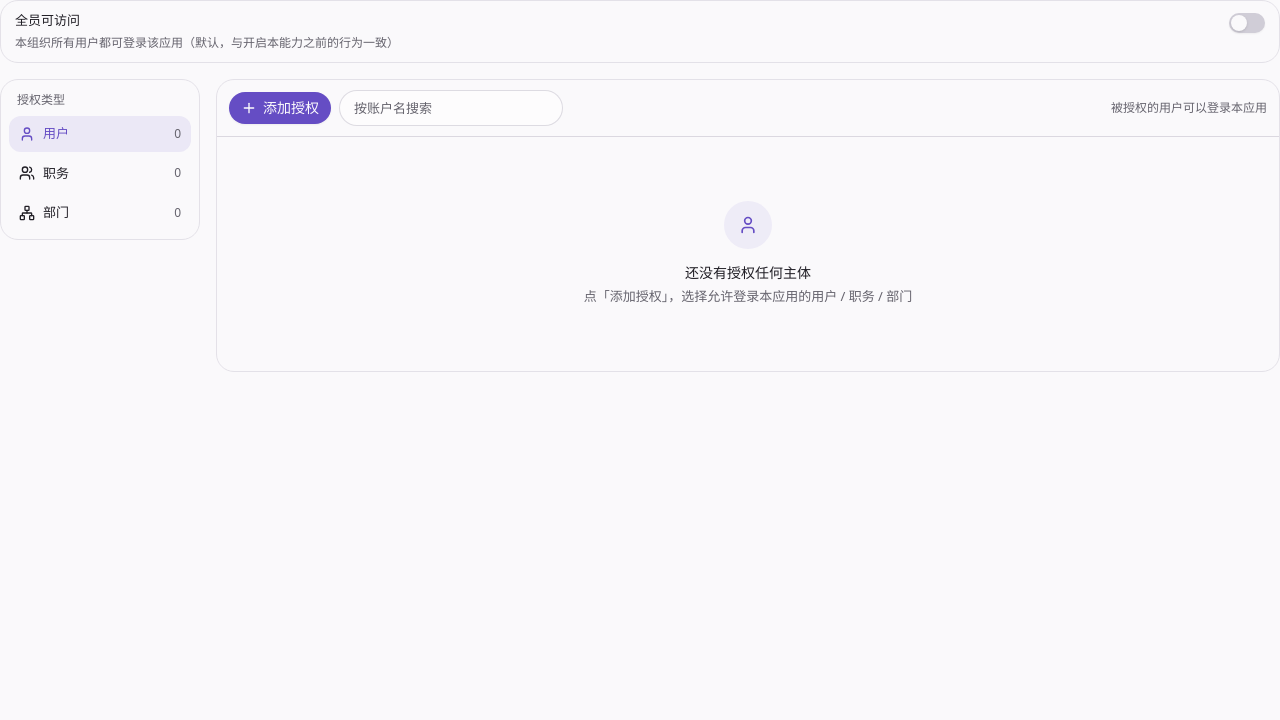
Test: ApplicationAccessEditor（授权类型 / 名单 左右布局） › 弹窗内可切换授权类型与全选；列表按关键词服务端搜索
Click the button "添加授权": coordinates (280, 108) [229,92,331,124]
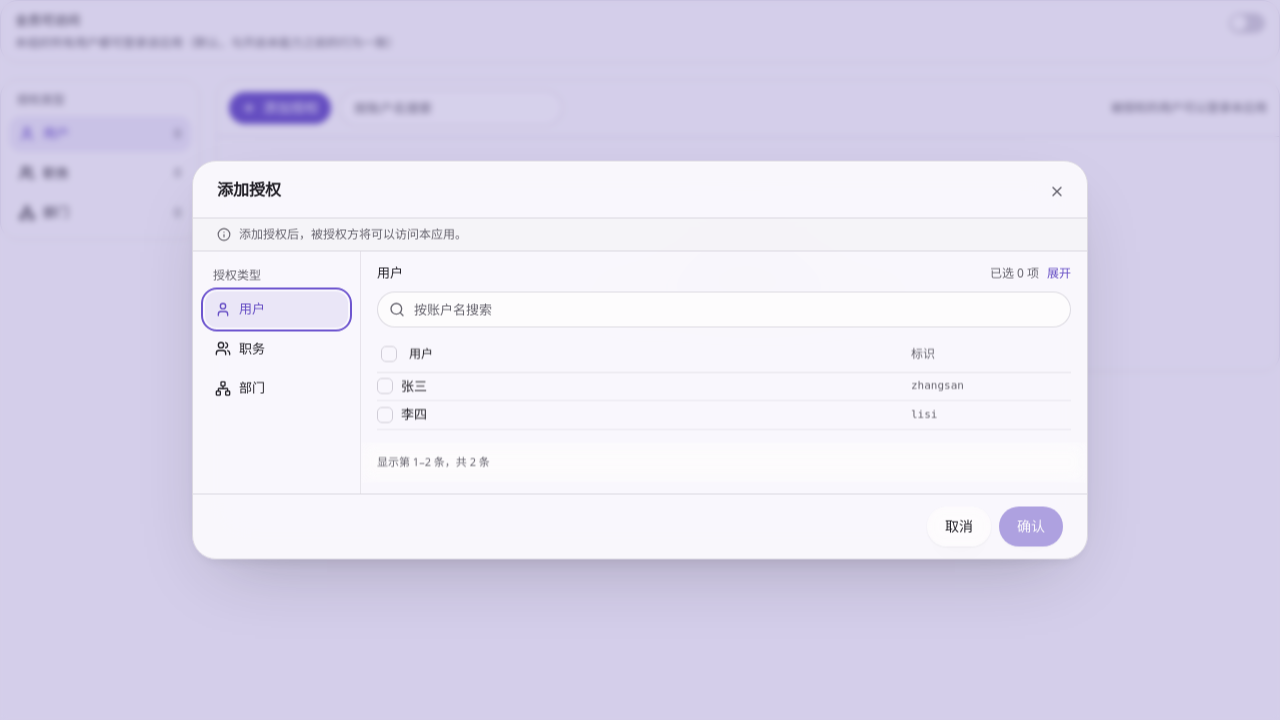
# 全选当前列出的候选
Click the checkbox named "全选当前列出的主体": coordinates (389, 353) [381,345,397,361]
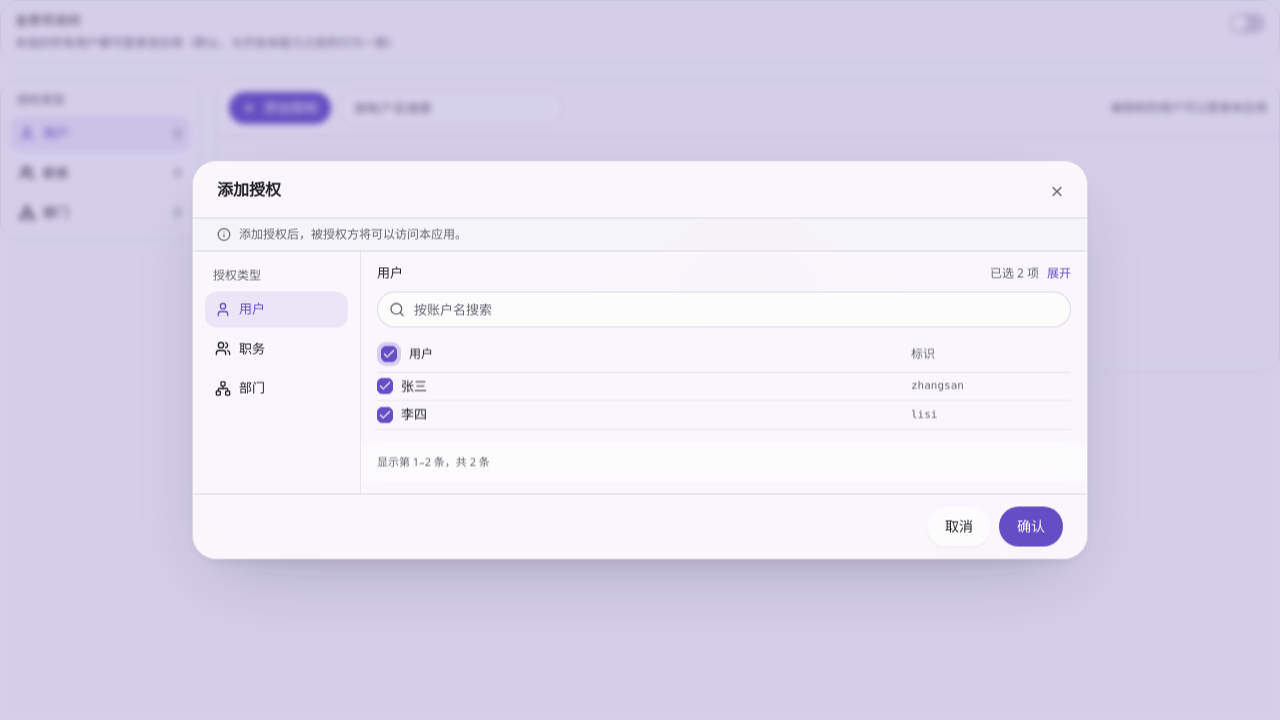
Expected: the text "已选 2 项" is shown, [990,265,1039,281]
# 再点一次取消全选
Click the checkbox named "全选当前列出的主体": coordinates (389, 353) [381,345,397,361]
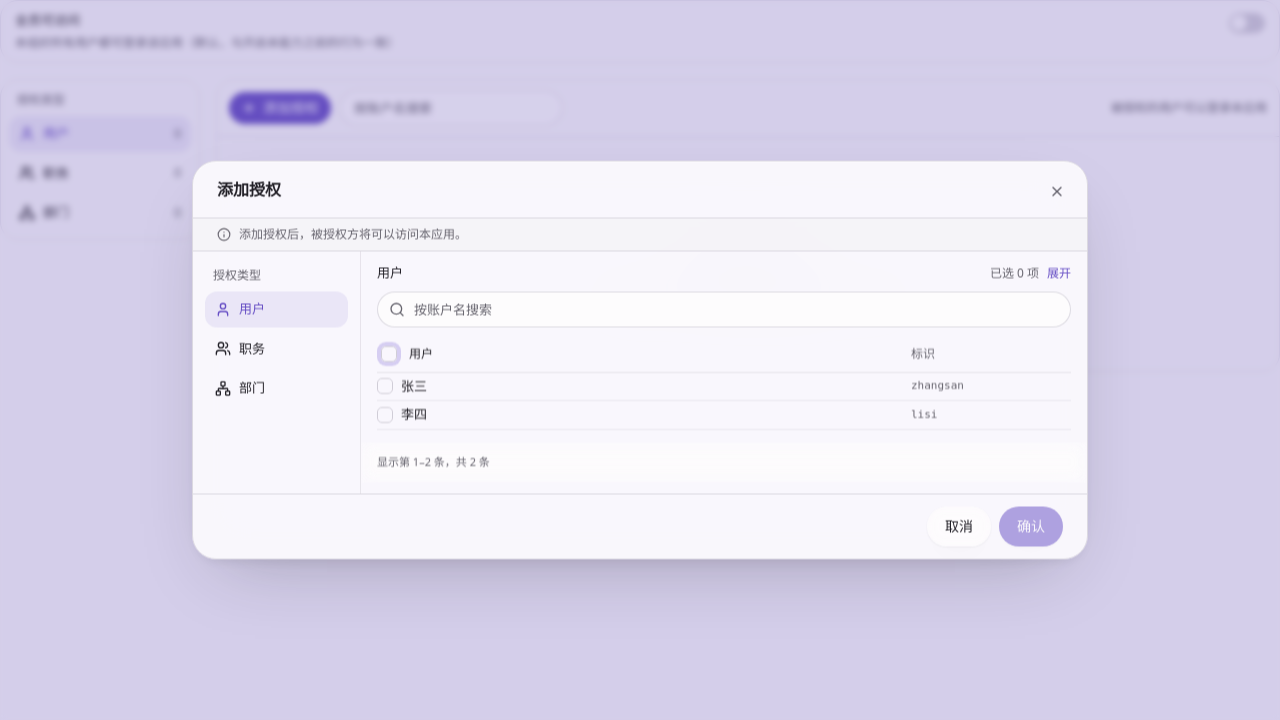
Expected: the text "已选 0 项" is shown, [990,265,1039,281]
# 切到「职务」：类型切换后候选跟着换
Click the button "职务": coordinates (276, 349) [205,331,348,366]
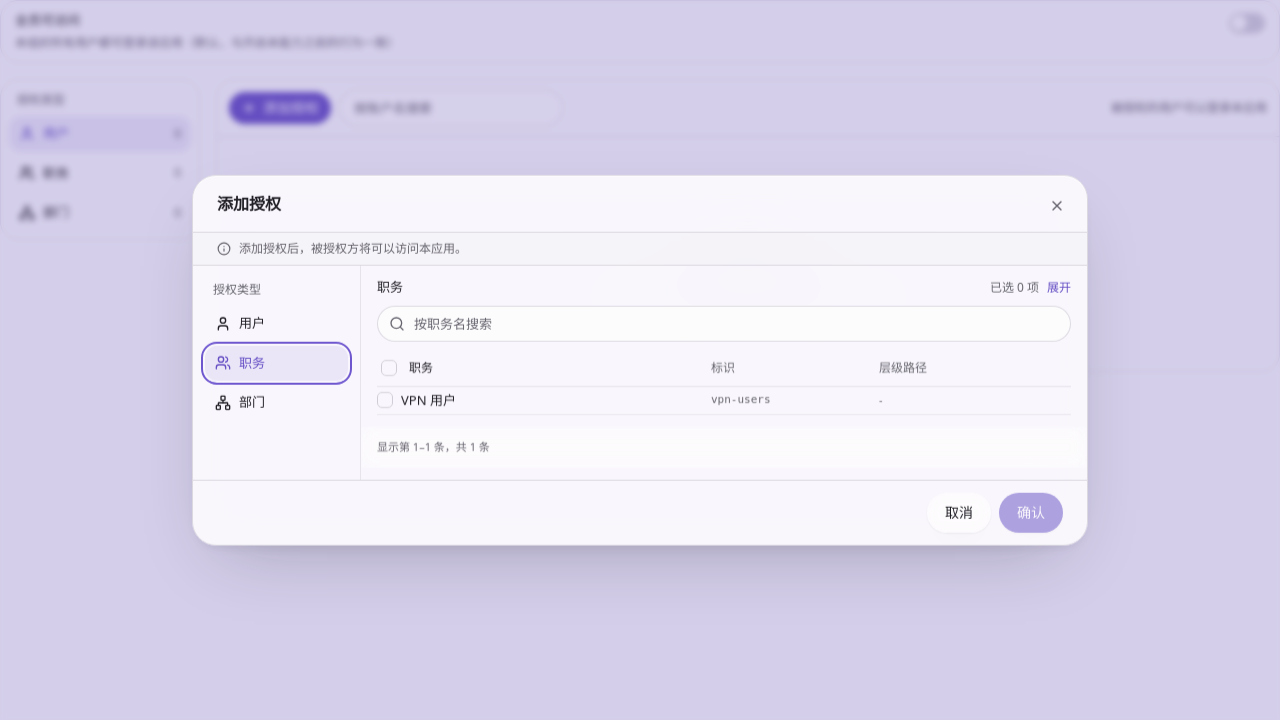
Expected: the text "VPN 用户" is shown, [401,390,456,408]
